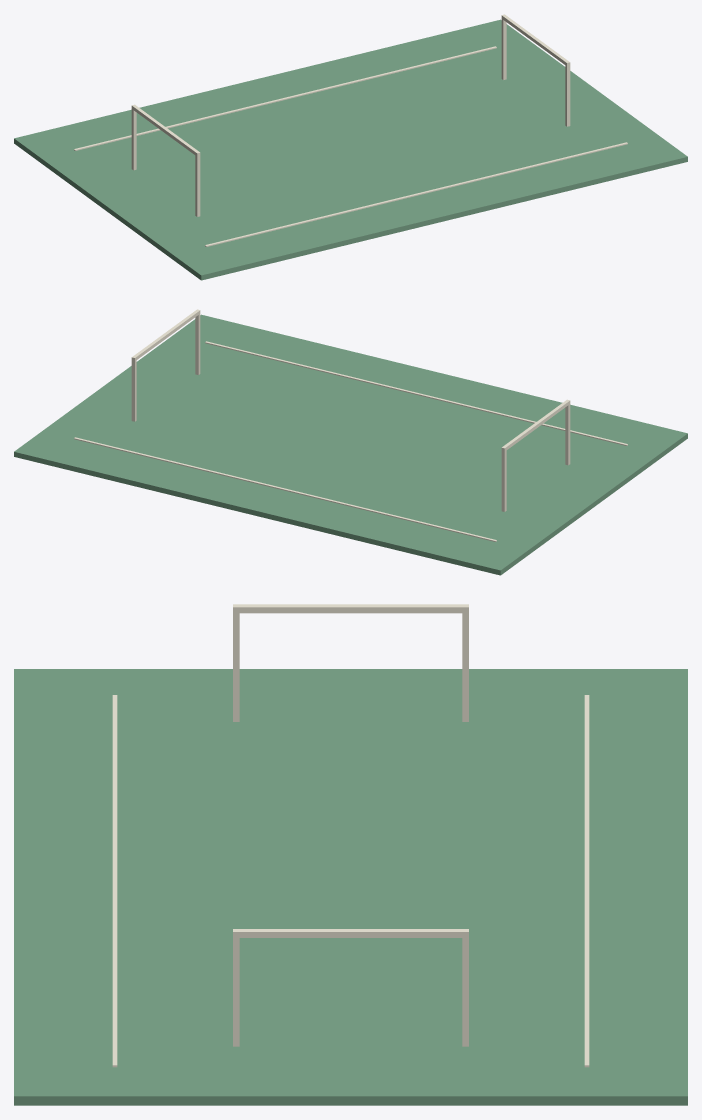
Rendered from sports.glb.
3 views of the same model, one above another, from view 1: azimuth 30°, elevation 25°; view 2: azimuth 150°, elevation 25°; view 3: azimuth 270°, elevation 25° (orthographic). The views are drawn at different scales.
Visible parts, largest first — view 1: SportsMesh; view 2: SportsMesh; view 3: SportsMesh.
Part boxes in pixels (<box>): SportsMesh: <box>14,14,687,280</box>; SportsMesh: <box>14,309,687,575</box>; SportsMesh: <box>14,604,687,1105</box>.
Size of the model in its own units: 15 by 2.05 by 10.
Materials: 1 (1 with a texture image).
